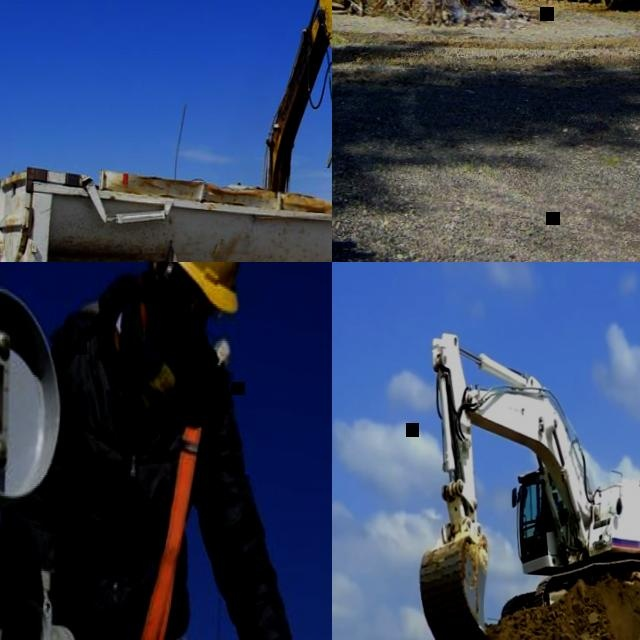Hardhat: (144, 262, 246, 308)
Mask: (149, 293, 198, 367)
NO-Safety Vest: (54, 305, 189, 640)
Person: (0, 262, 332, 640), (535, 491, 560, 552)
machinery: (417, 331, 640, 640), (169, 0, 332, 262), (0, 164, 332, 262)
